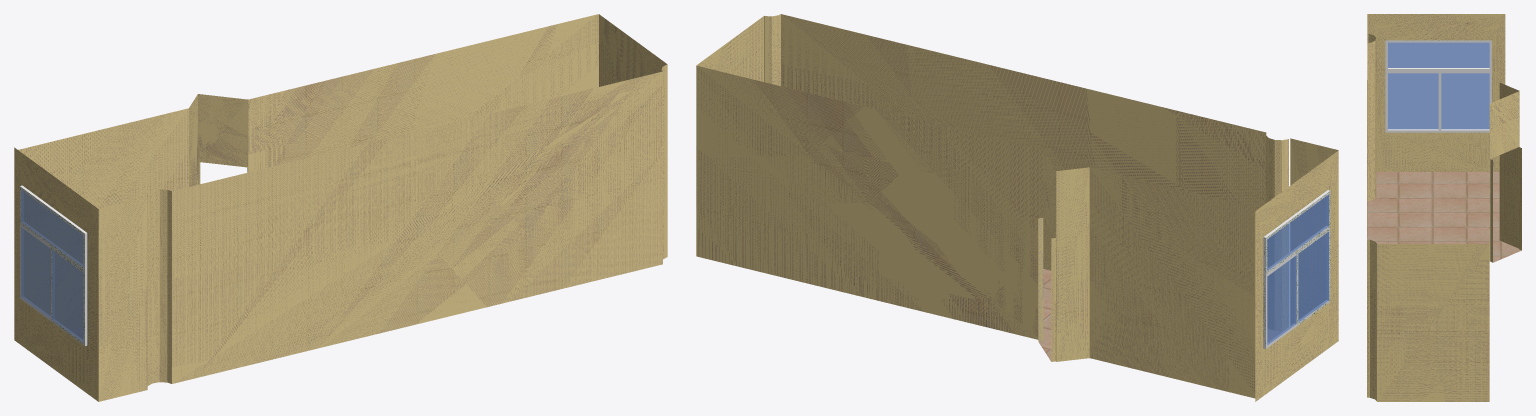
File: DES039.obj
The picture shows the model from 3 angles, left to right: view 1: azimuth 30°, elevation 25°; view 2: azimuth 150°, elevation 25°; view 3: azimuth 270°, elevation 25°; orthographic projection. The views are drawn at different scales.
Parts seen in each view (by area): view 1: Mesh7 DES039 Model, Mesh8 DES039 Model, Mesh1 ventana1_1 DES039 Model; view 2: Mesh7 DES039 Model, Mesh8 DES039 Model, Mesh1 ventana1_1 DES039 Model; view 3: Mesh7 DES039 Model, Mesh8 DES039 Model, Mesh1 ventana1_1 DES039 Model.
Part boxes in pixels (<box>): Mesh7 DES039 Model: <box>18,14,667,385</box>; Mesh8 DES039 Model: <box>14,147,147,401</box>; Mesh1 ventana1_1 DES039 Model: <box>20,185,87,345</box>; Mesh7 DES039 Model: <box>696,14,1288,398</box>; Mesh8 DES039 Model: <box>1255,138,1338,401</box>; Mesh1 ventana1_1 DES039 Model: <box>1263,190,1330,348</box>; Mesh7 DES039 Model: <box>1367,34,1521,401</box>; Mesh8 DES039 Model: <box>1367,14,1505,171</box>; Mesh1 ventana1_1 DES039 Model: <box>1385,40,1491,132</box>.
Size of the model in its own units: 11.28 by 3.6 by 3.2.
Materials: 6 (1 with a texture image).
